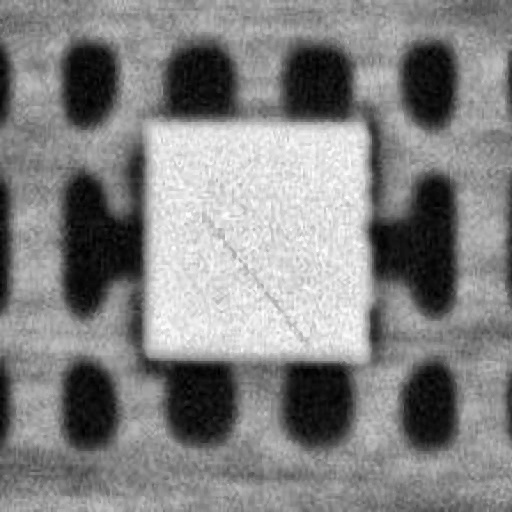DIE_CRACK: (302, 142, 456, 226)
